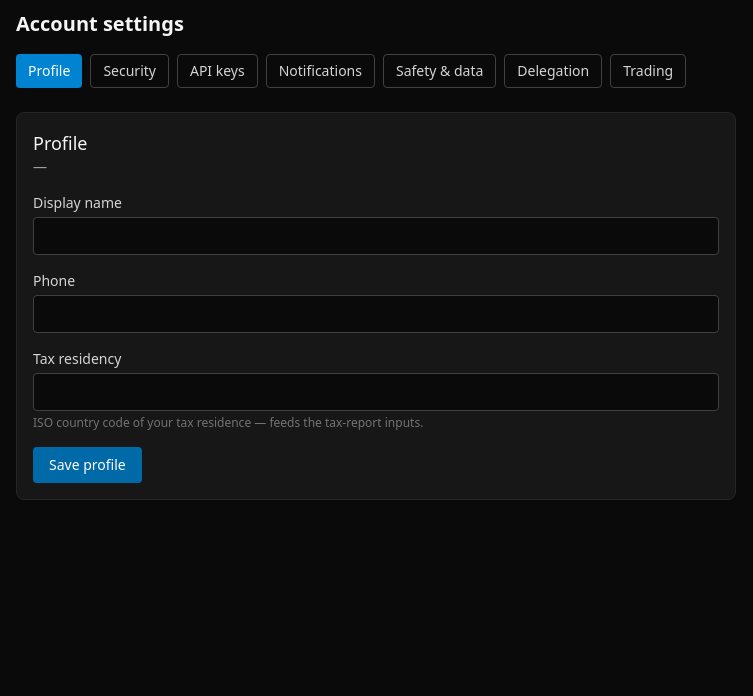
Test: SettingsPage › switches to the security tab
Click the tab "Security".
click(130, 71)  # box [90, 54, 169, 88]
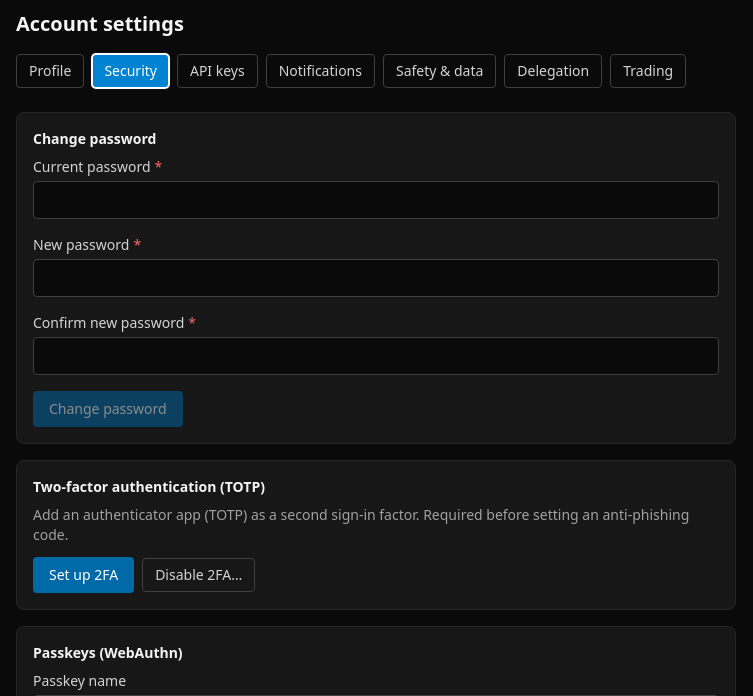
Expected: the heading "Change password" is shown, [33, 129, 156, 148]
